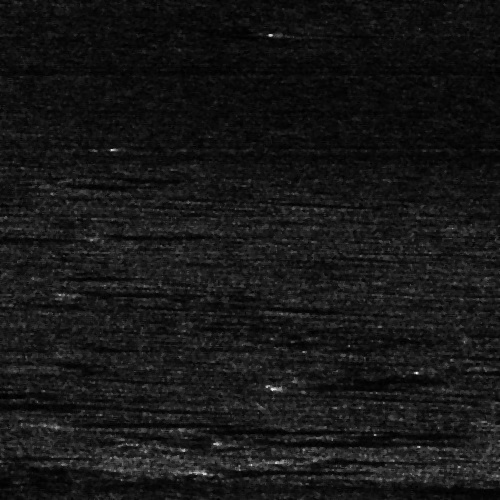object: (78, 169, 183, 182), (8, 414, 113, 425), (45, 181, 108, 188), (202, 437, 265, 444), (273, 30, 336, 35), (153, 466, 216, 471), (191, 425, 212, 430), (289, 457, 320, 460)
shadow: (61, 414, 256, 425), (131, 169, 233, 182), (234, 437, 392, 444), (185, 466, 341, 471), (201, 425, 355, 430), (76, 181, 176, 188), (305, 30, 413, 35), (0, 399, 70, 406), (0, 449, 35, 462), (88, 233, 236, 236), (305, 457, 358, 460), (0, 187, 21, 194)
